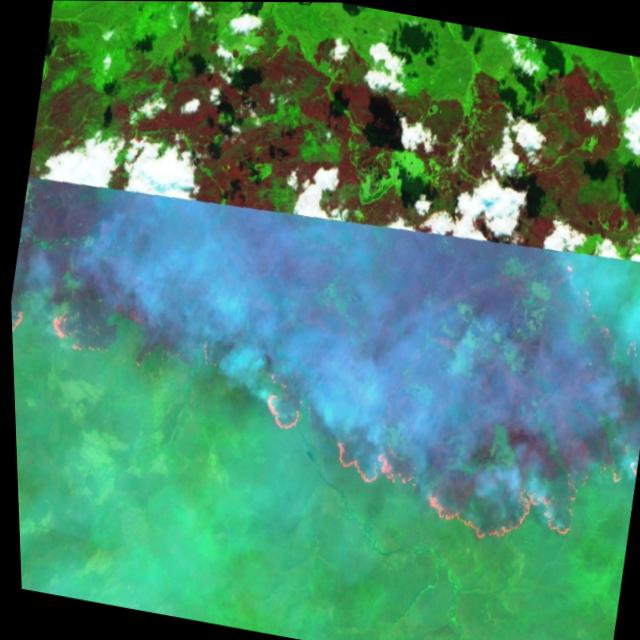fire: (4, 154, 640, 572)
